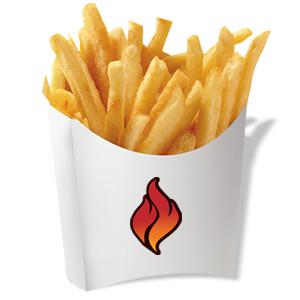fries: (29, 3, 277, 176)
